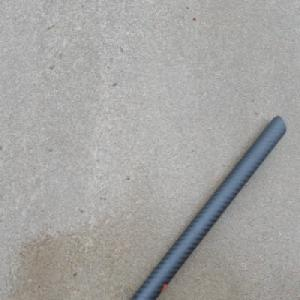LuggagePart: (130, 112, 287, 300)
